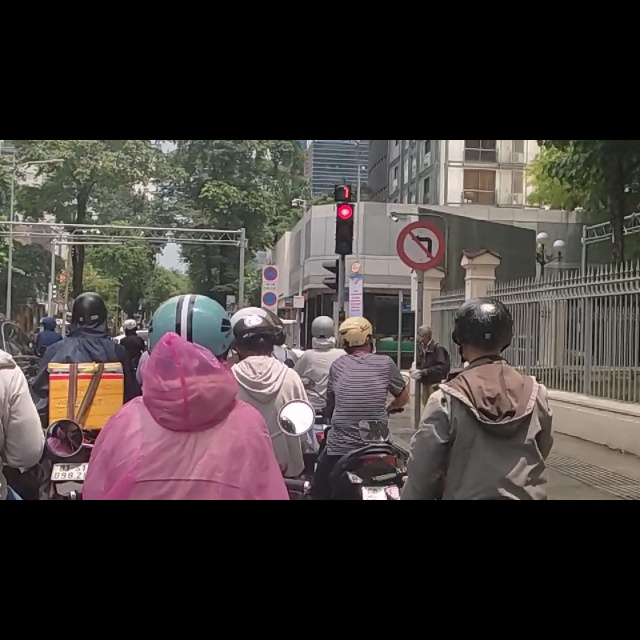bien_cam: (396, 140, 445, 232), (263, 224, 278, 250), (262, 268, 277, 294)
